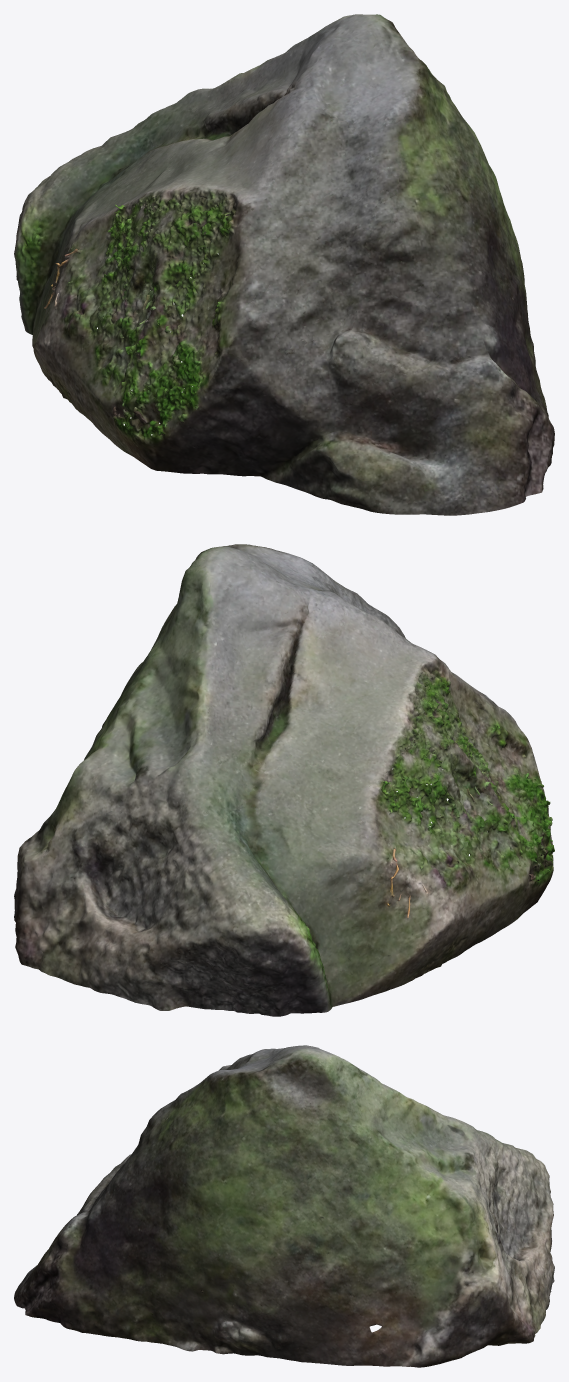
Rendered from Rock.glb.
3 renders of one model, top to bottom at view 1: azimuth 30°, elevation 25°; view 2: azimuth 150°, elevation 25°; view 3: azimuth 270°, elevation 25°, orthographic. The views are drawn at different scales.
Parts seen in each view (by area): view 1: abound_20260410-0844_C31e270aa1479bdee0c10861eb346e62; view 2: abound_20260410-0844_C31e270aa1479bdee0c10861eb346e62; view 3: abound_20260410-0844_C31e270aa1479bdee0c10861eb346e62.
Boxes of the visible parts, x1,y1,x2,y2 form: abound_20260410-0844_C31e270aa1479bdee0c10861eb346e62: [14, 14, 554, 515]; abound_20260410-0844_C31e270aa1479bdee0c10861eb346e62: [14, 544, 554, 1016]; abound_20260410-0844_C31e270aa1479bdee0c10861eb346e62: [14, 1045, 554, 1367].
Bounding box in the file's own units: 0.7 × 0.5357 × 0.98.
1 material, 1 textured.
